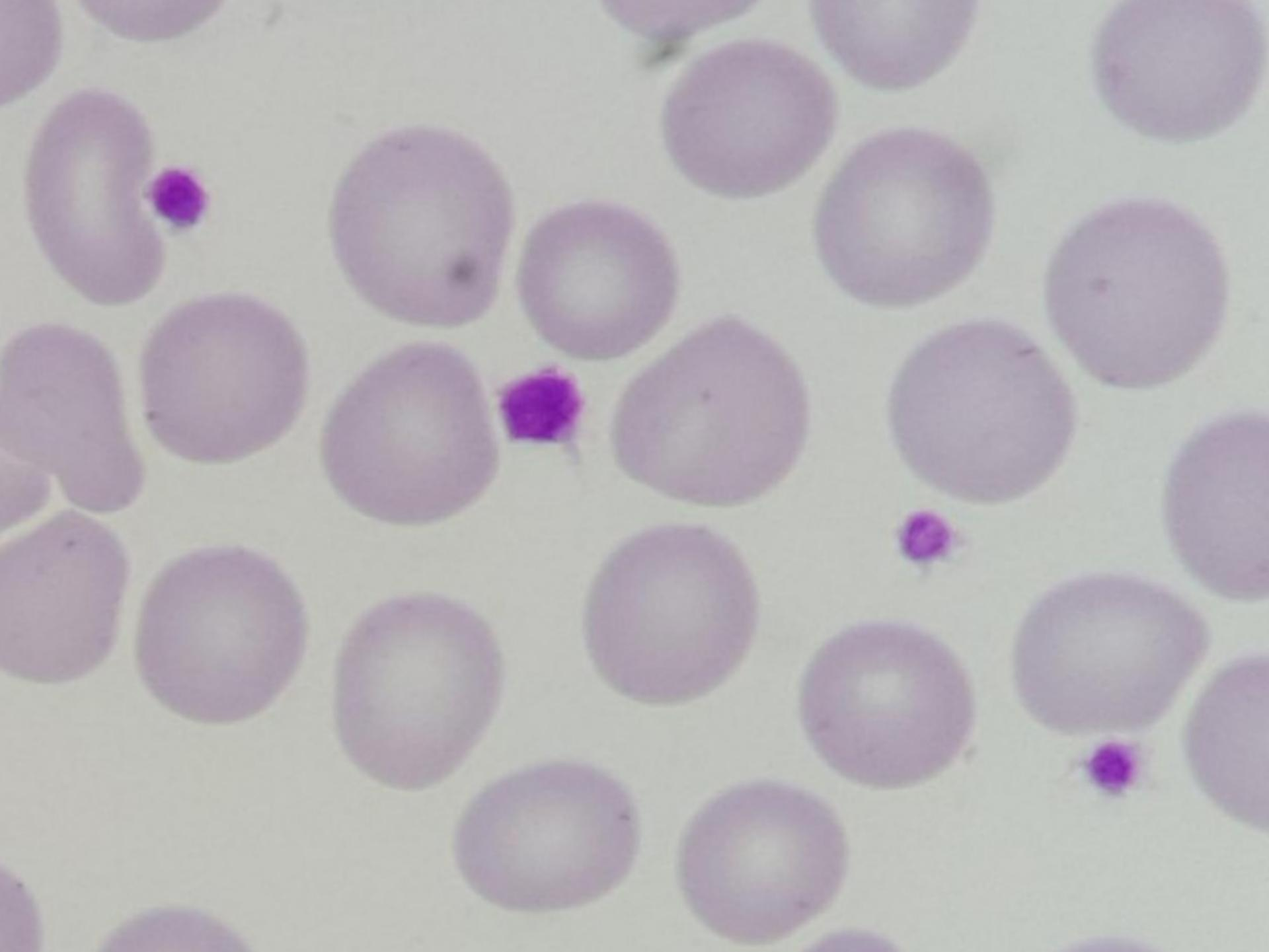Uninfected: (330, 131, 511, 328), (616, 319, 803, 508), (891, 317, 1078, 503), (1049, 201, 1228, 392), (322, 344, 504, 526), (335, 597, 503, 792), (818, 128, 992, 311), (585, 522, 754, 705), (25, 88, 163, 307), (1016, 577, 1203, 738), (135, 544, 303, 722), (673, 782, 847, 948), (147, 296, 311, 468), (664, 42, 839, 203), (798, 623, 968, 788), (458, 762, 640, 916), (0, 332, 144, 513), (520, 203, 681, 360), (1097, 0, 1256, 143), (0, 512, 129, 682), (1165, 412, 1269, 600), (808, 0, 969, 92)
